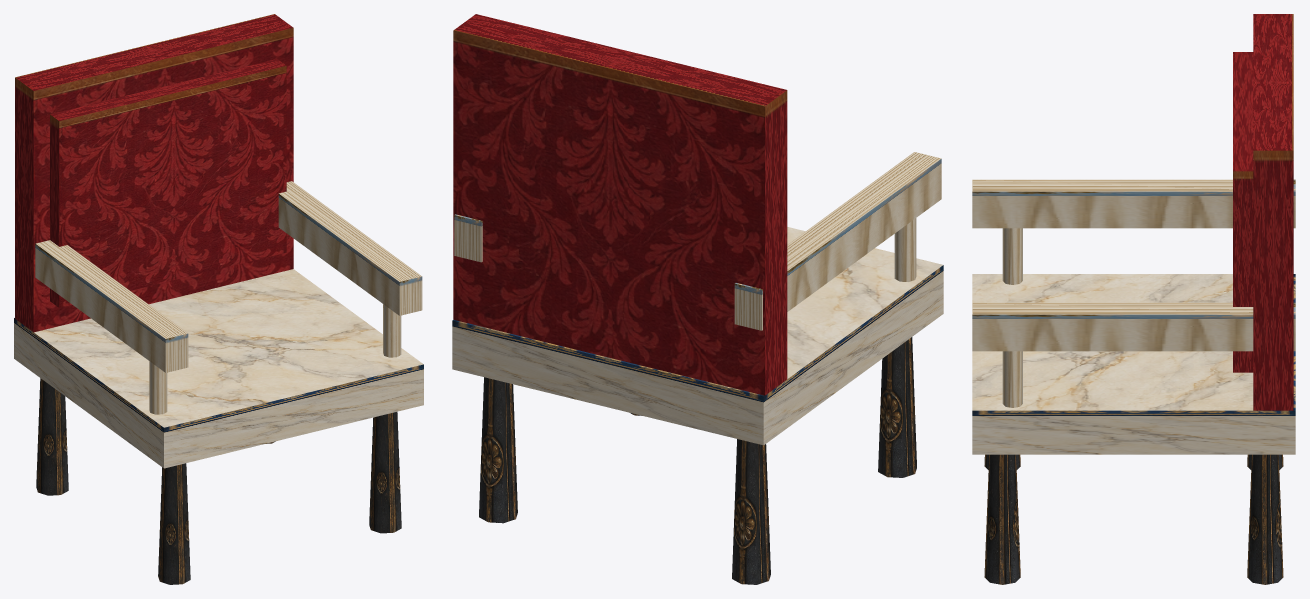
Rendered from office-chair.gltf.
3 views of the same model, side by side, from view 1: azimuth 30°, elevation 25°; view 2: azimuth 150°, elevation 25°; view 3: azimuth 270°, elevation 25° (orthographic). The views are drawn at different scales.
Visible parts, largest first — view 1: kit:0:furniture:leather:, kit:0:furniture:blue:, kit:0:furniture:gold:, kit:0:furniture:mahogany:; view 2: kit:0:furniture:leather:, kit:0:furniture:blue:, kit:0:furniture:mahogany:, kit:0:furniture:gold:; view 3: kit:0:furniture:blue:, kit:0:furniture:gold:, kit:0:furniture:leather:, kit:0:furniture:mahogany:.
Part boxes in pixels (x1,y1,x2,y2): kit:0:furniture:leather:: [15, 14, 293, 332]; kit:0:furniture:blue:: [14, 269, 423, 468]; kit:0:furniture:gold:: [35, 181, 422, 414]; kit:0:furniture:mahogany:: [36, 378, 401, 584]; kit:0:furniture:leather:: [453, 14, 787, 395]; kit:0:furniture:blue:: [452, 227, 943, 445]; kit:0:furniture:mahogany:: [479, 337, 916, 584]; kit:0:furniture:gold:: [454, 152, 941, 330]; kit:0:furniture:blue:: [972, 274, 1295, 454]; kit:0:furniture:gold:: [972, 179, 1295, 407]; kit:0:furniture:leather:: [1233, 14, 1293, 410]; kit:0:furniture:mahogany:: [984, 454, 1283, 584].
Bounding box in the file's own units: 0.8 × 1.2 × 0.8.
4 materials, 4 textured.
